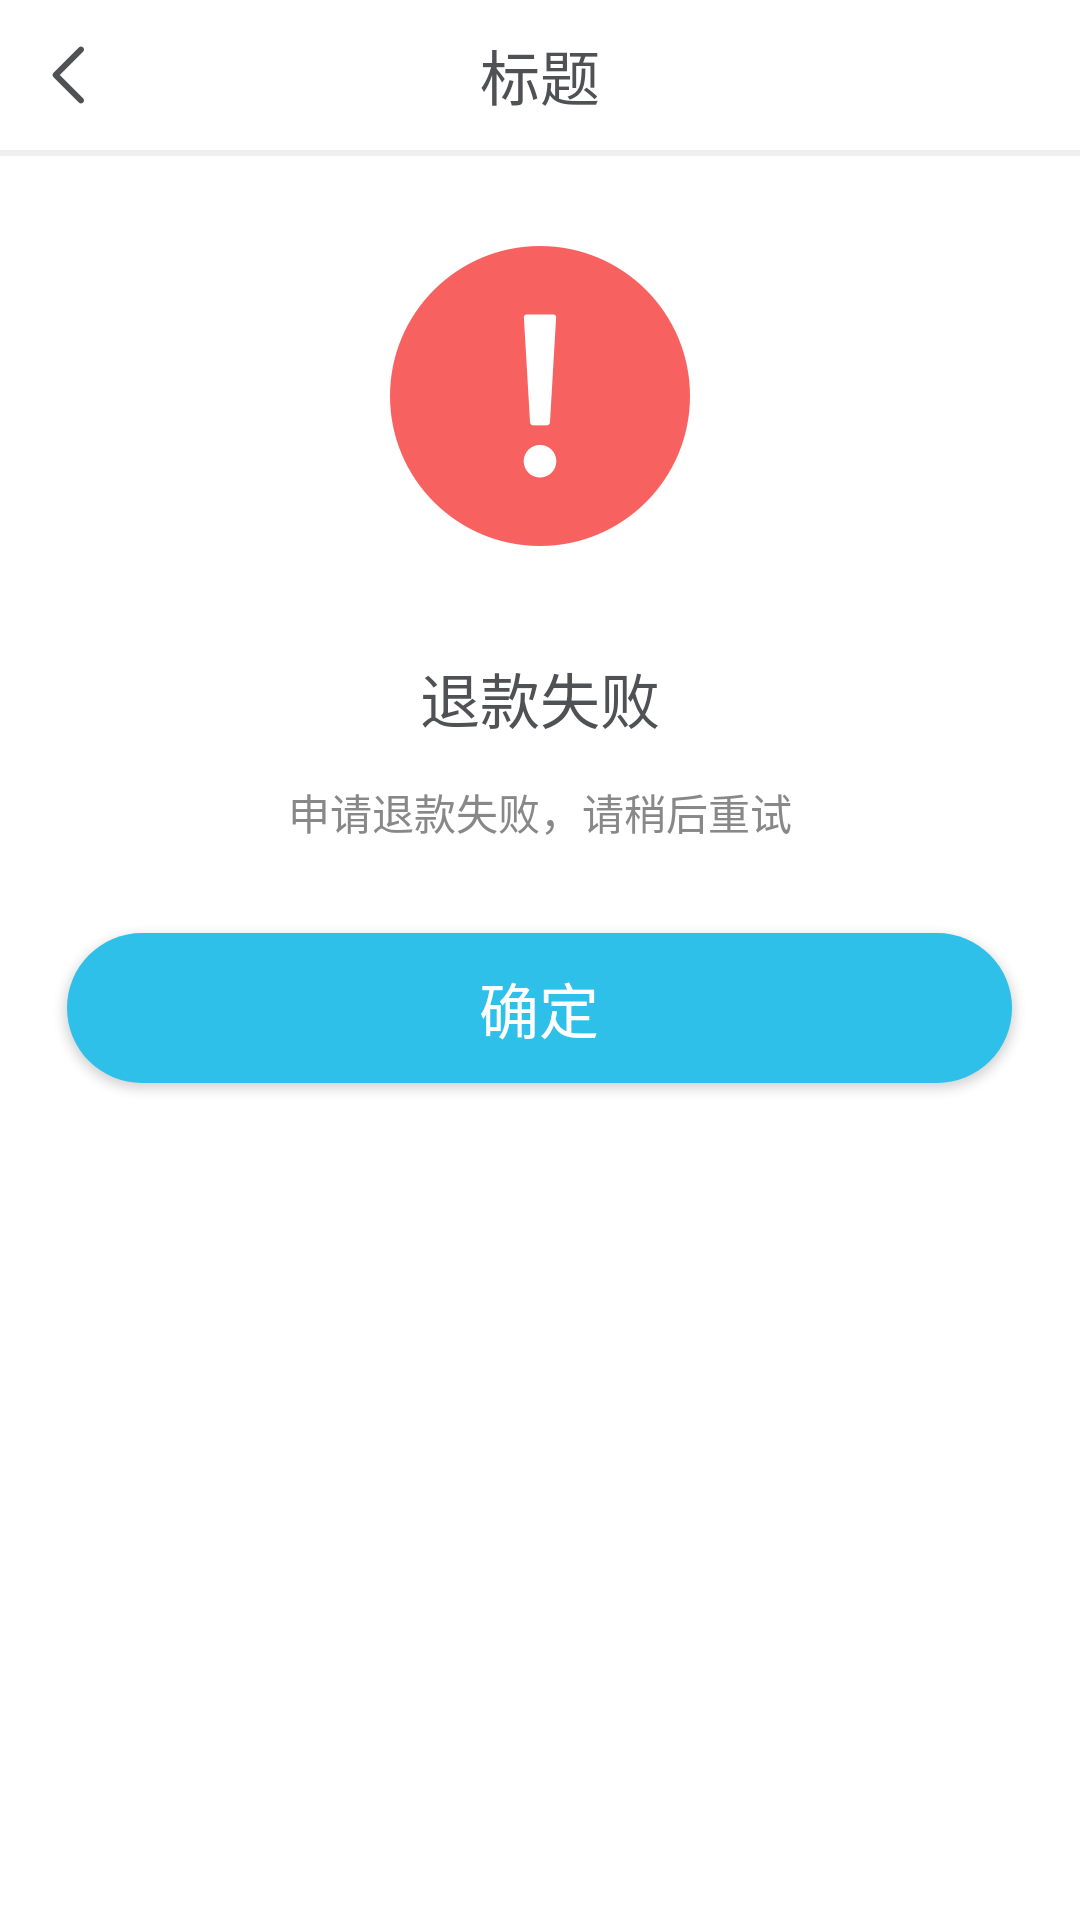

Icon click points for this 1080*1920 phone screenshot, format point (x, y):
back: point (68, 75)
warn: point (540, 396)
